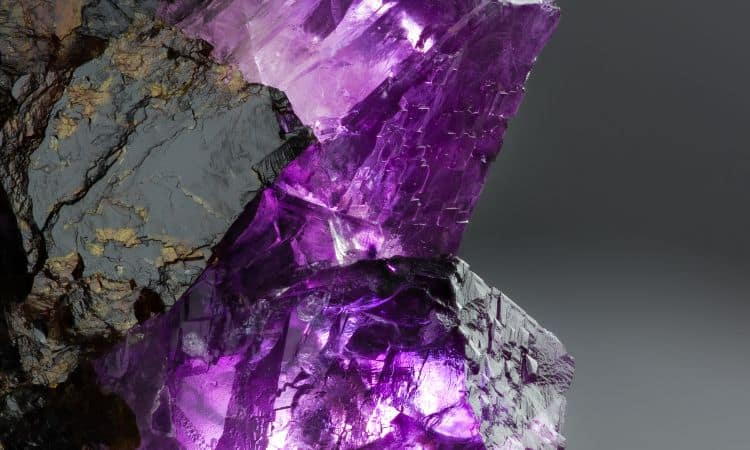Amethyst: (58, 0, 576, 450)
